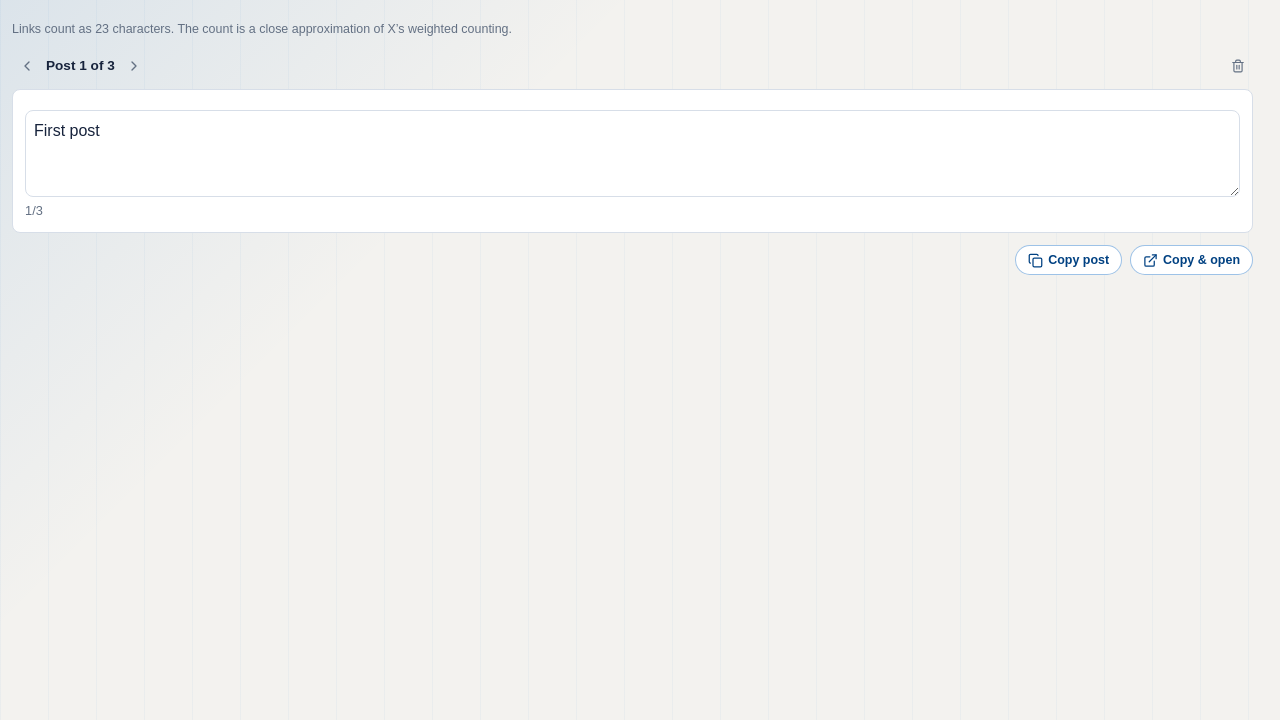
Test: thread editor › removes posts without removing the last editor and disables copying empty posts
This screenshot has width=1280, height=720.
Click the button named "Previous X thread post".
click(27, 66)  # box [12, 51, 42, 81]
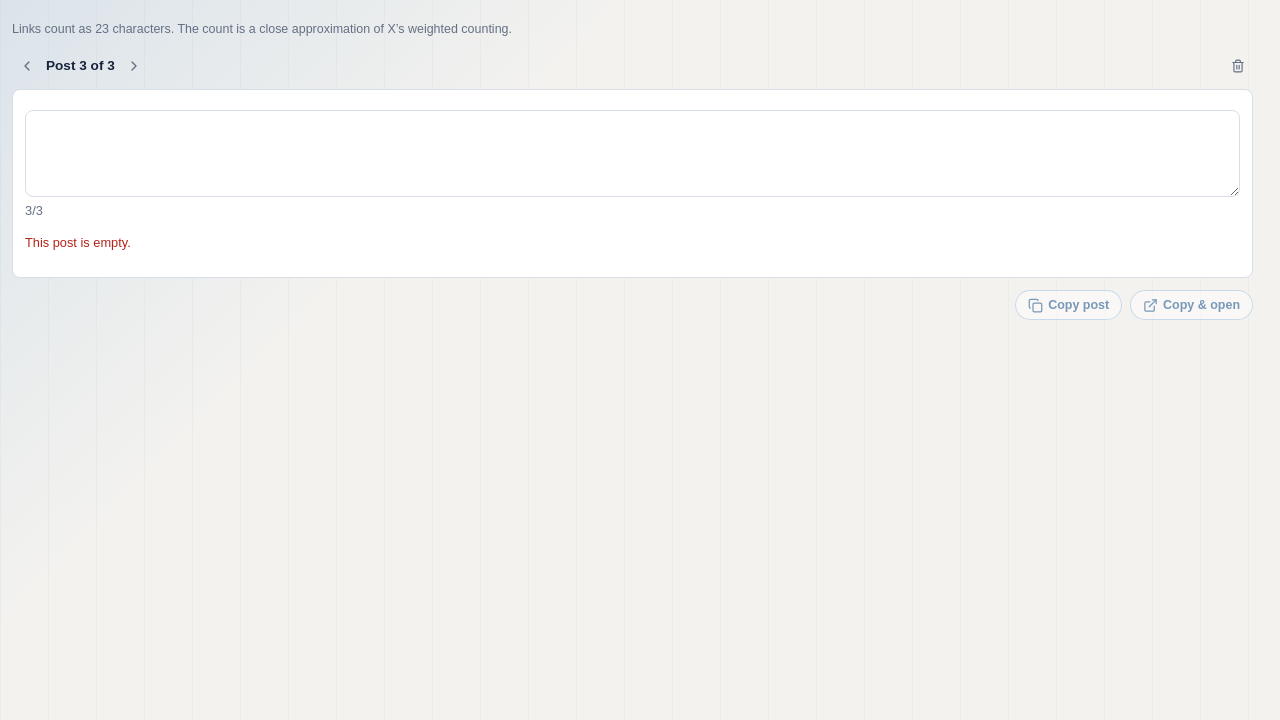
Expected: the number of text boxes is 1, [25, 110, 1240, 197]
Expected: the text box named "X post 3 text" is empty, [25, 110, 1240, 197]
Expected: the button named "Copy post 3" is disabled, [1015, 290, 1122, 320]
Click the button named "Remove post 3".
click(1238, 66)  # box [1223, 51, 1253, 81]
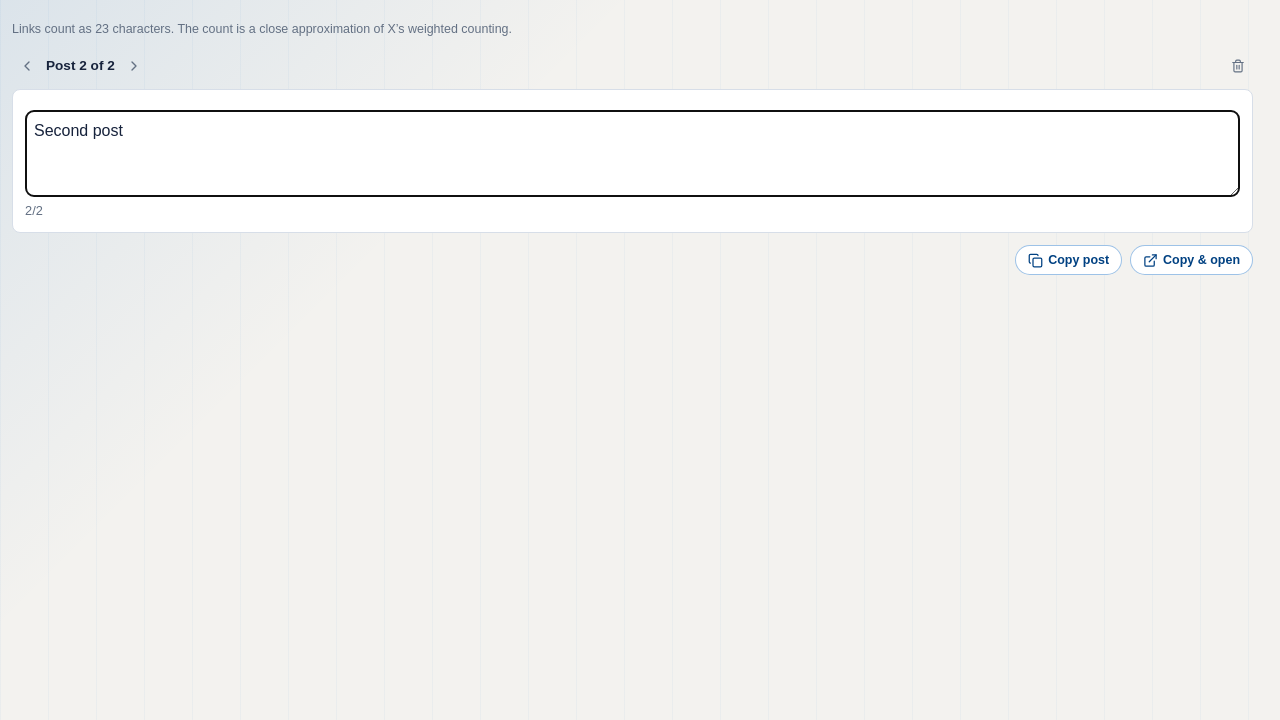
Click the button named "Remove post 2".
click(1238, 66)  # box [1223, 51, 1253, 81]
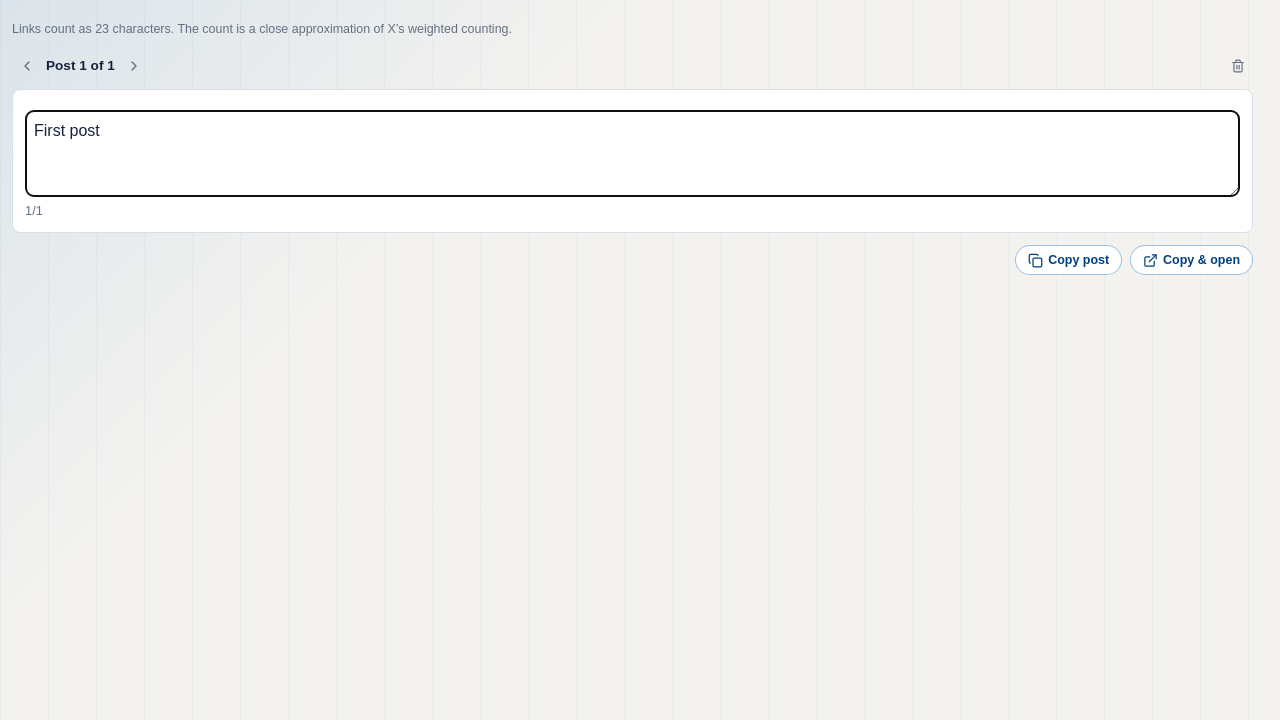
Expected: the text "1/1" is shown, [25, 203, 43, 218]
